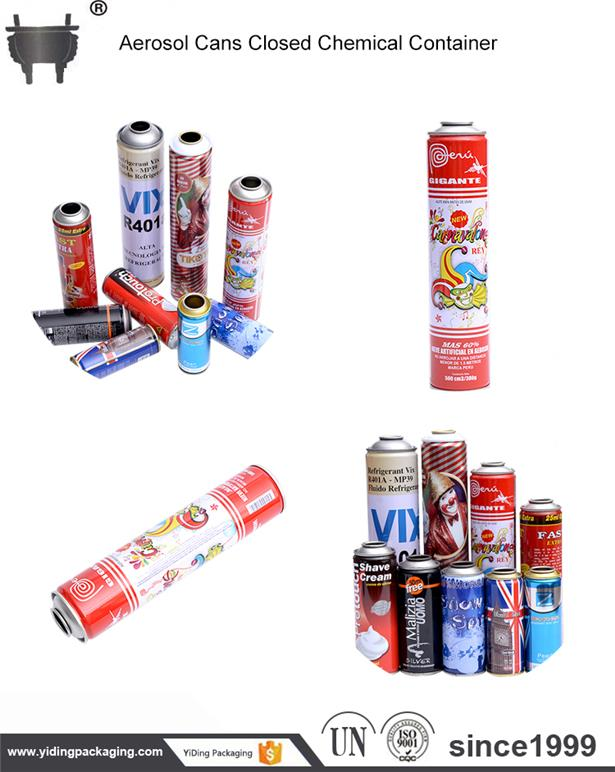Aerosol_cans: (43, 462, 293, 651), (423, 117, 496, 394), (115, 120, 169, 293), (219, 173, 273, 329), (417, 427, 470, 566), (363, 433, 423, 555), (353, 541, 402, 675), (465, 456, 520, 566), (50, 199, 103, 309), (514, 497, 570, 577), (173, 290, 216, 377)
